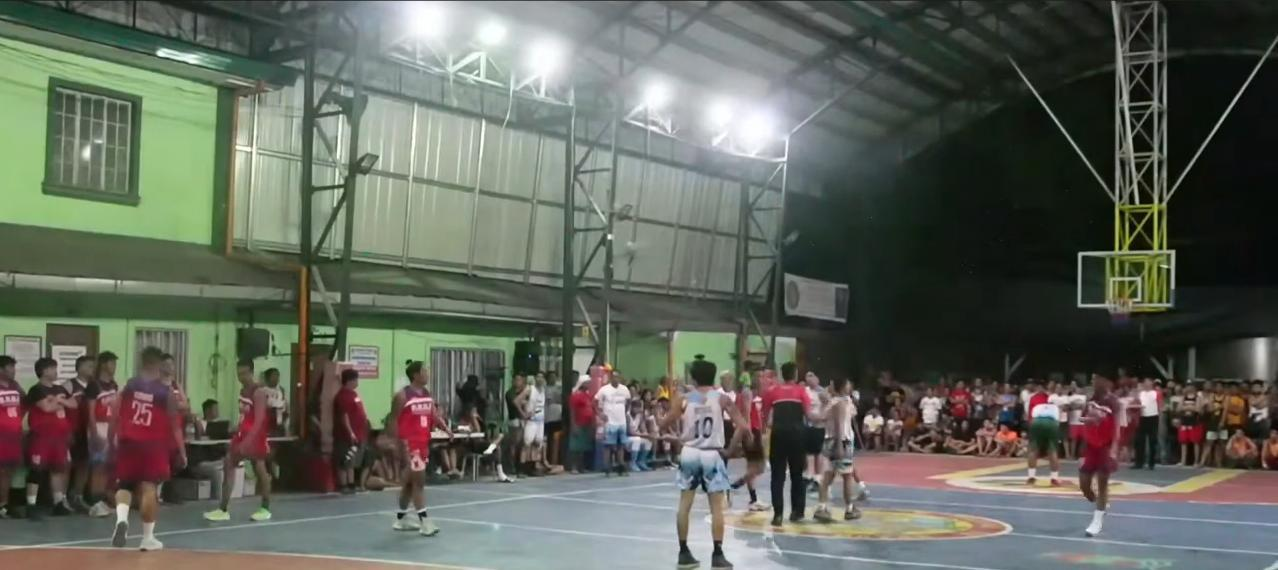human: (662, 352, 735, 570), (198, 345, 280, 538), (105, 342, 178, 555), (382, 352, 460, 545), (748, 357, 821, 537), (1063, 367, 1125, 544), (812, 368, 874, 528), (32, 348, 74, 525), (0, 342, 33, 527)
rim: (1102, 294, 1136, 331)
